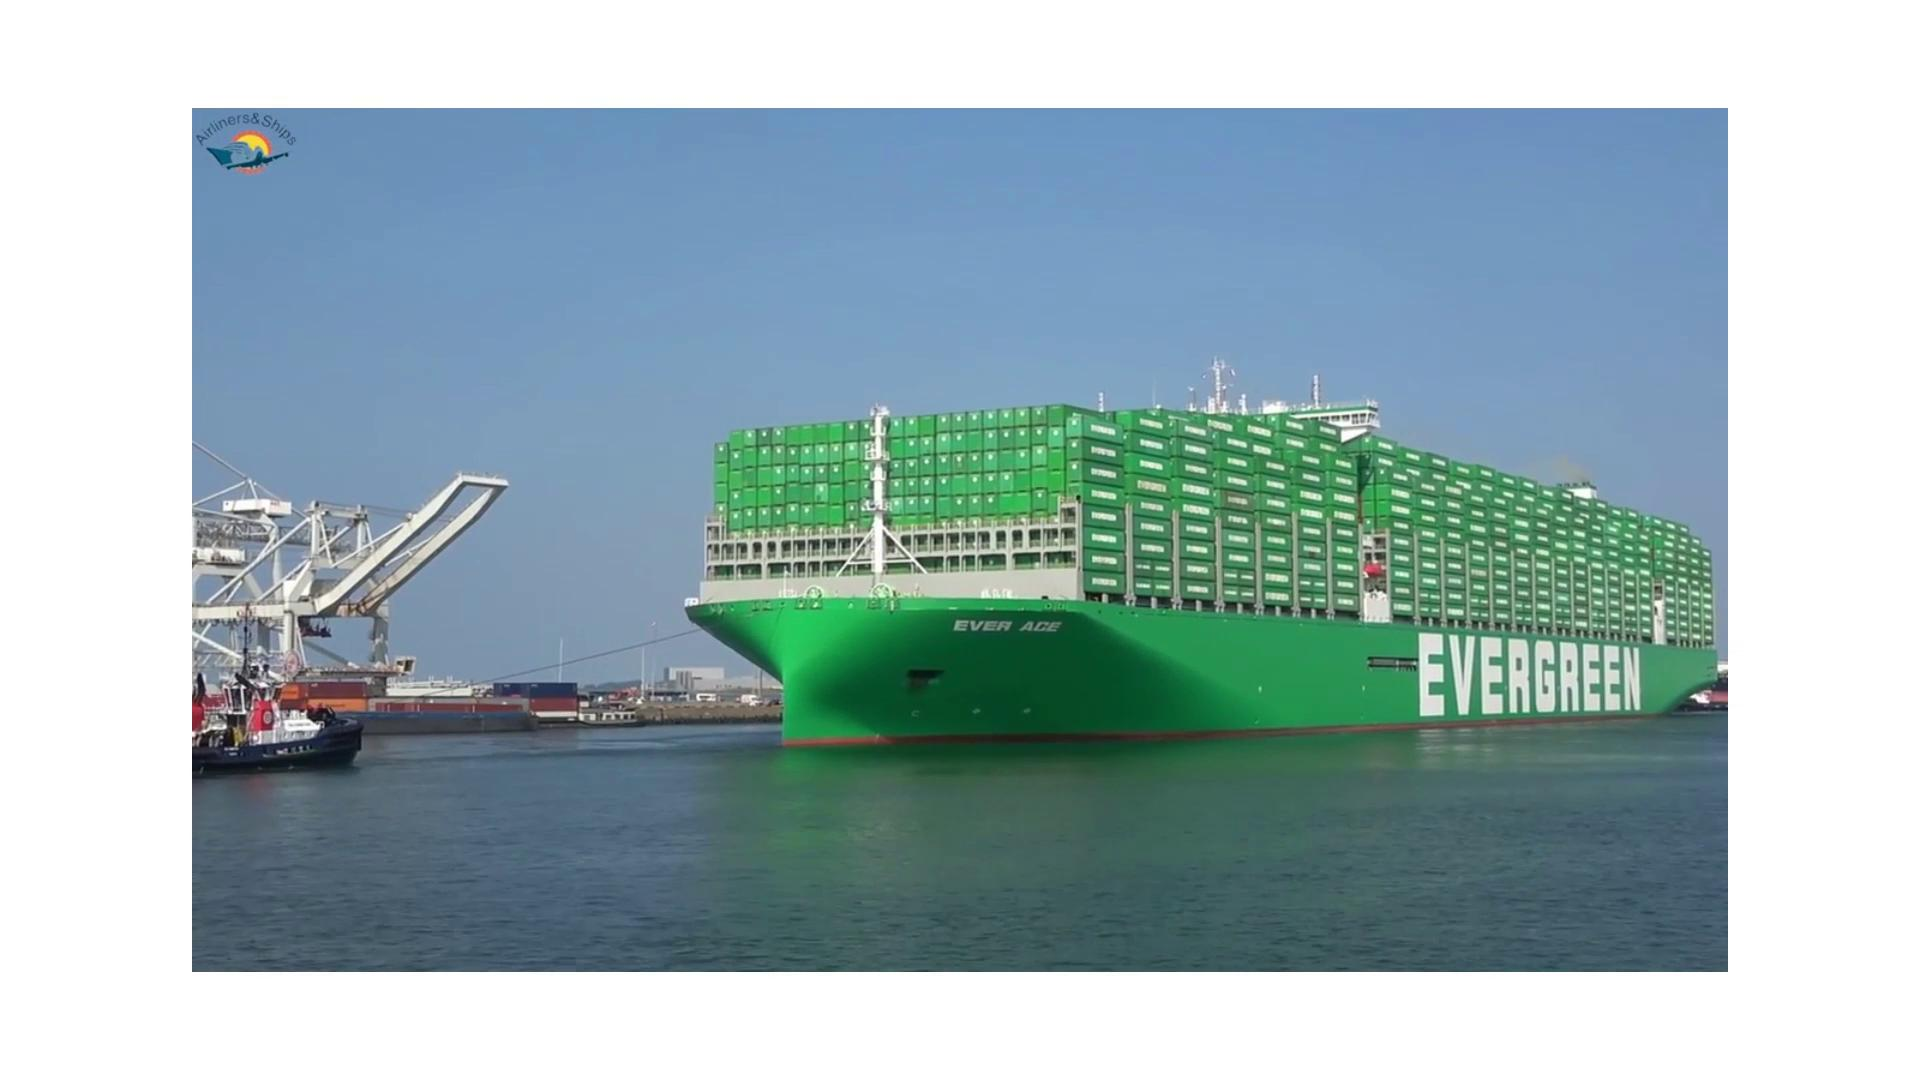OCR: (1400, 613, 1652, 732), (935, 592, 1072, 655)
